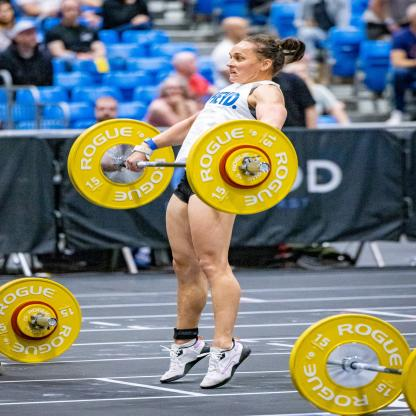barbell: (189, 121, 300, 217), (71, 119, 177, 211)
